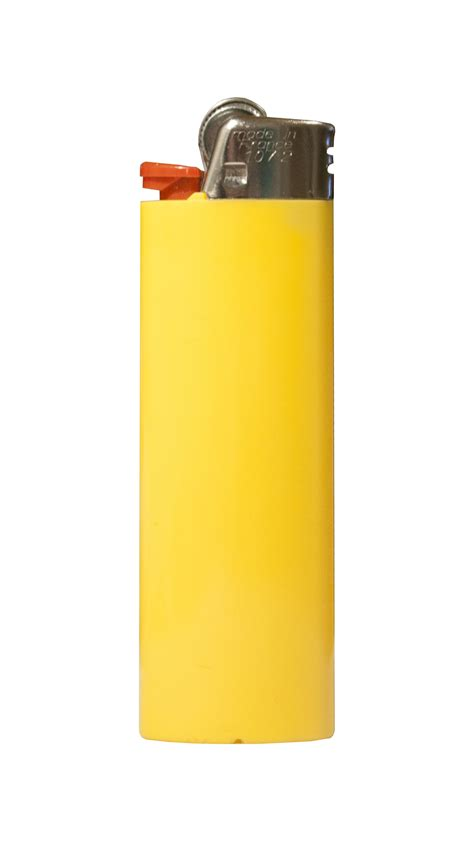???: (138, 96, 335, 743)
